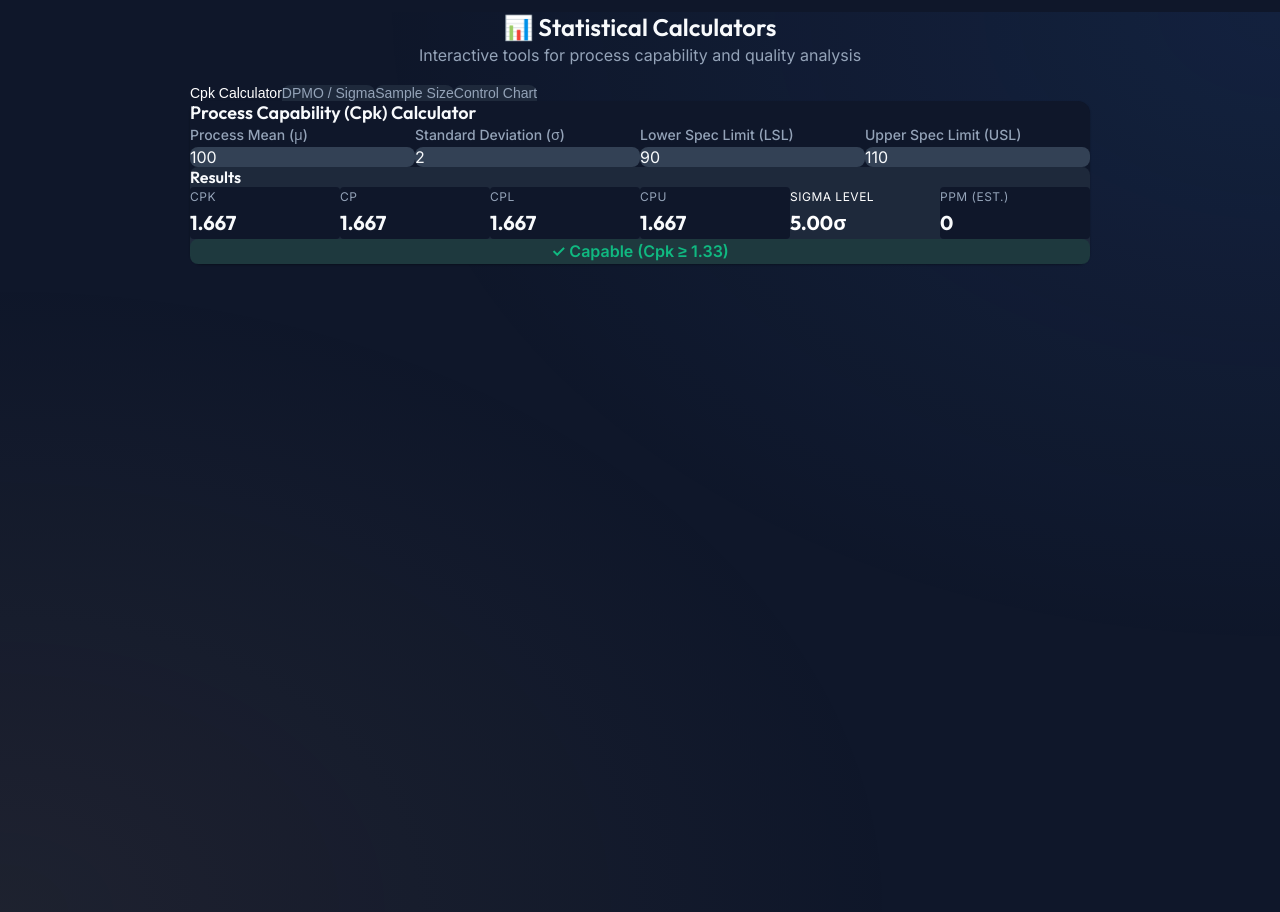
Scenario: StatCalculators › switches to DPMO calculator when tab clicked
This screenshot has width=1280, height=912.
Click the button "DPMO / Sigma" at (328, 93), box [282,85,375,101]
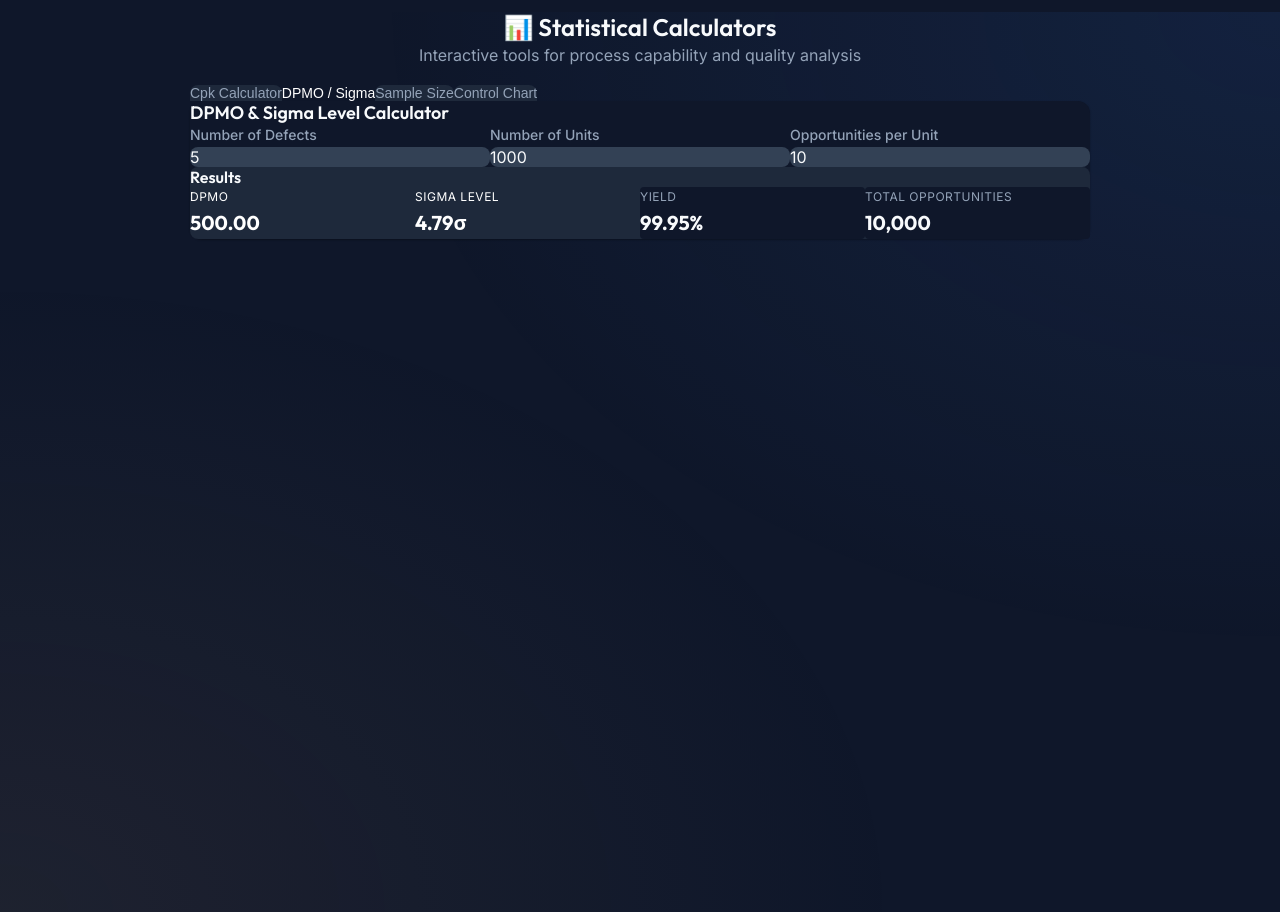
Expected: the heading "DPMO & Sigma Level Calculator" is shown, [190,101,449,124]
